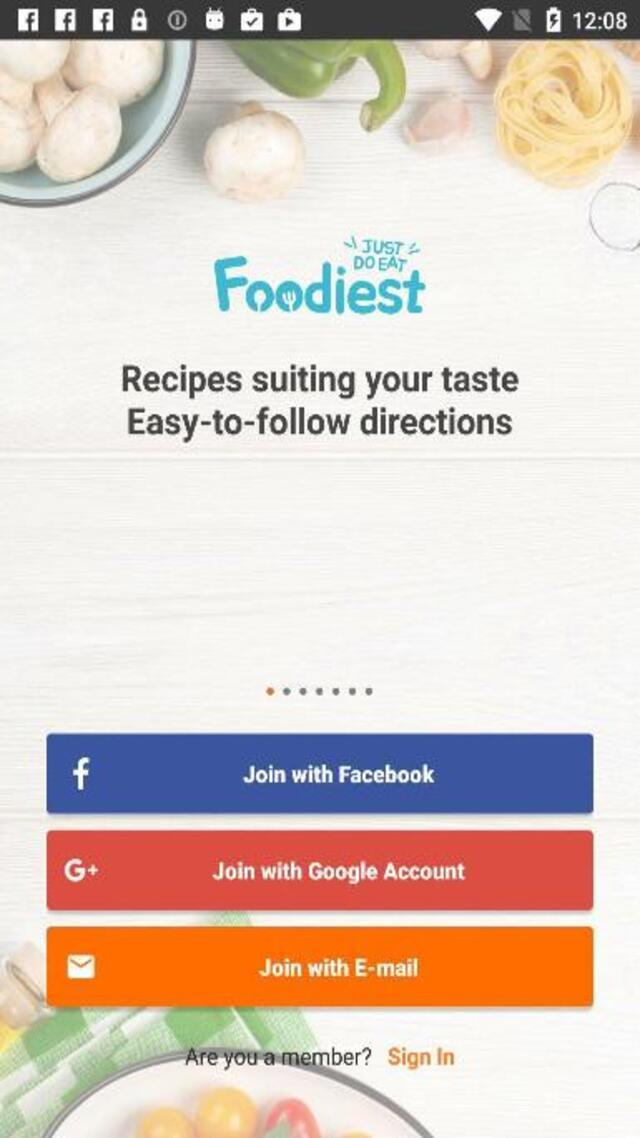Icon: (62, 853, 104, 887), (68, 754, 99, 794), (64, 953, 100, 980)
Image: (213, 238, 424, 318)
Text: (122, 402, 516, 440), (116, 362, 524, 397), (205, 856, 471, 884), (232, 757, 438, 788), (253, 953, 428, 980), (184, 1046, 372, 1070), (386, 1046, 454, 1070)
TextButton: (45, 830, 592, 910), (45, 928, 592, 1008), (45, 734, 592, 813)
